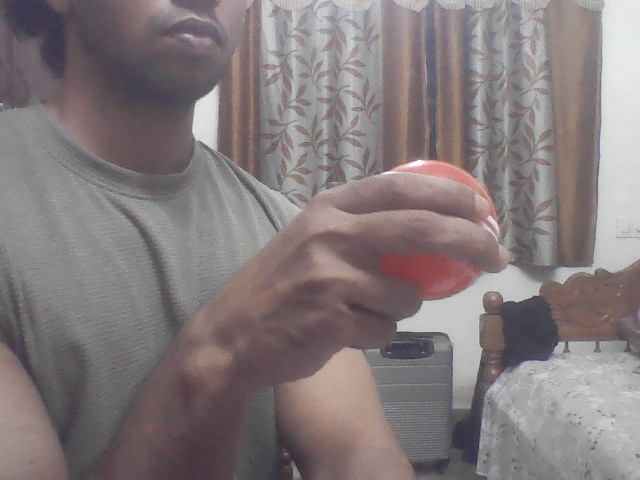cricket_ball: (378, 158, 502, 298)
